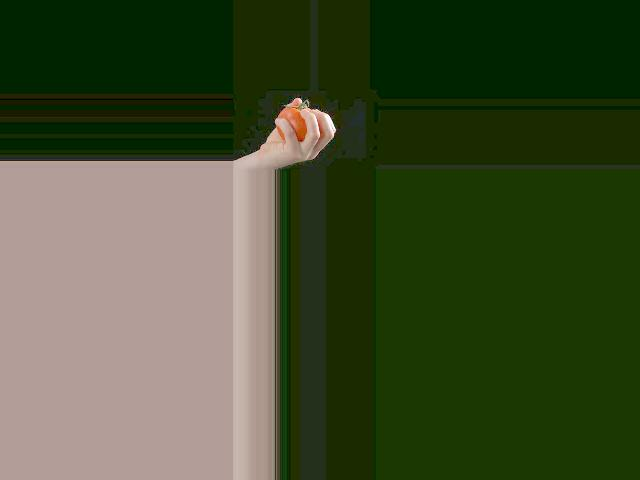tomato: (276, 107, 311, 143)
